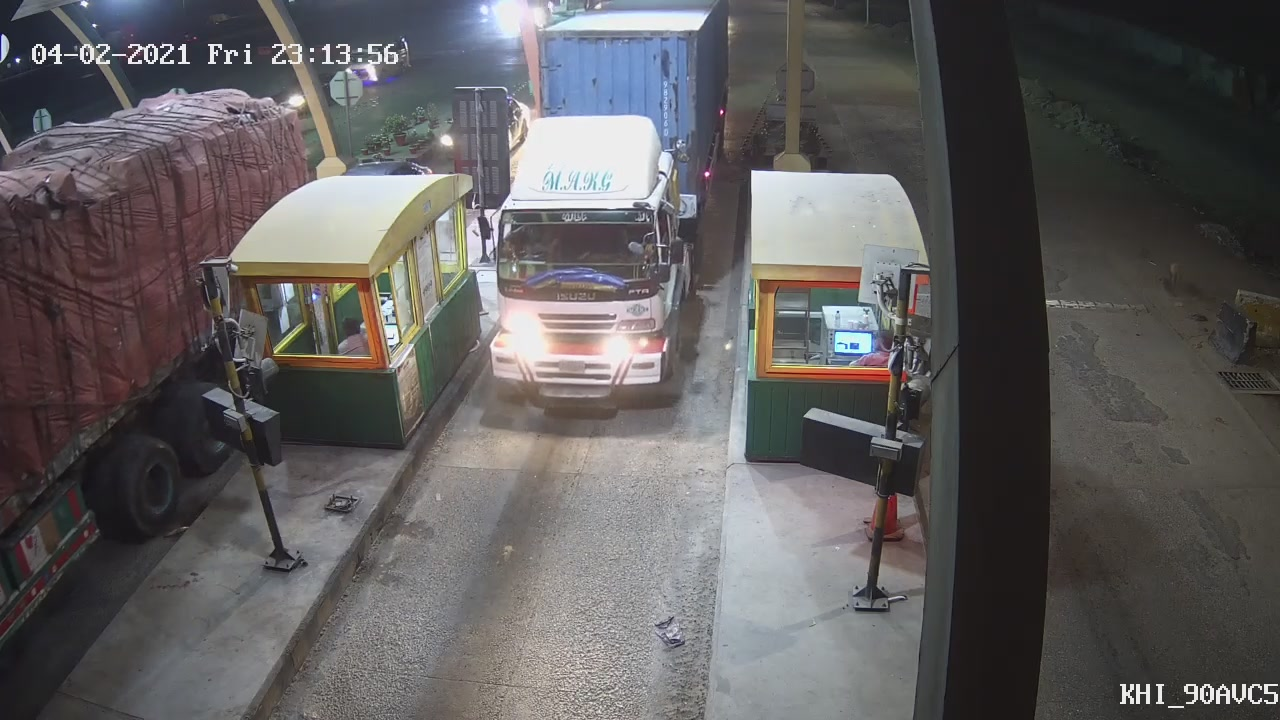F6: (477, 1, 734, 406)
